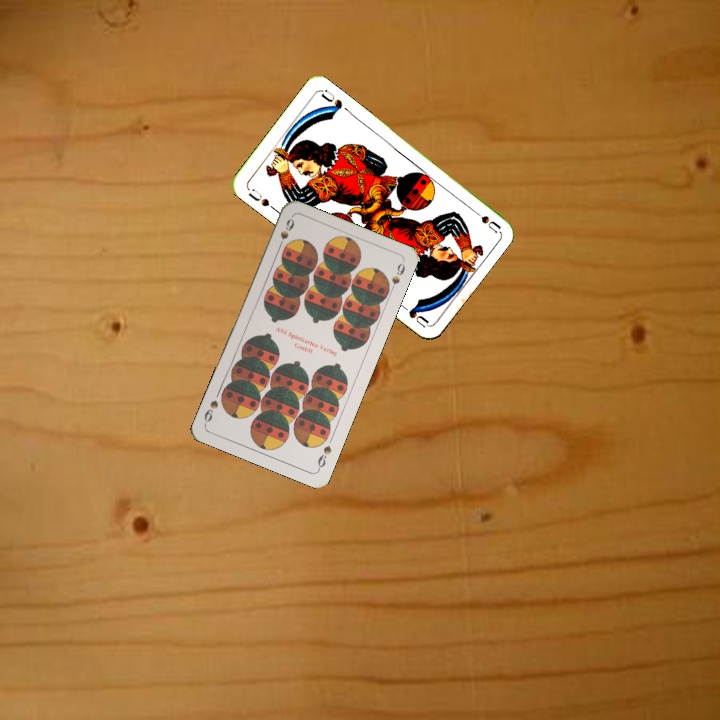S9: (274, 215, 297, 253), (313, 441, 334, 473)
SU: (466, 203, 502, 235), (243, 184, 278, 213)
